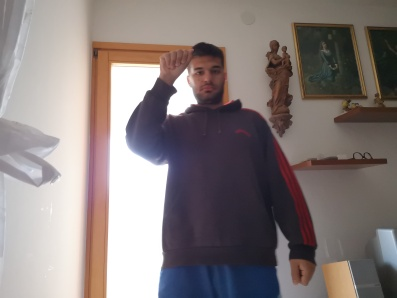A: (155, 47, 196, 79)
